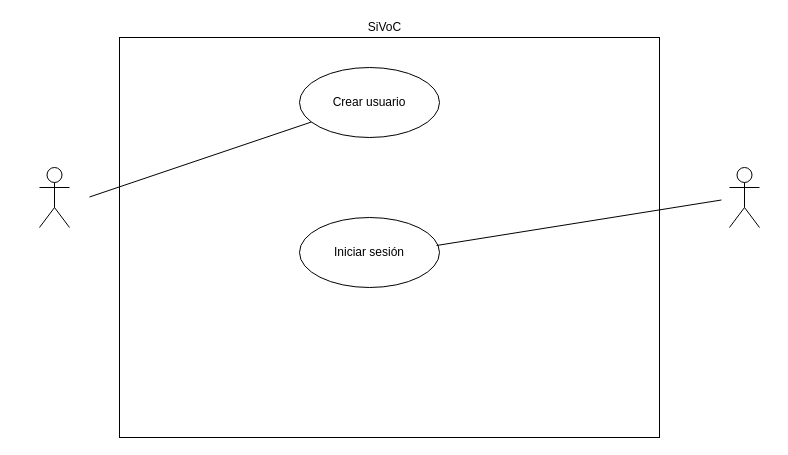
Image size: 788x455. Some labels were removed from this diagram. Here are the shapes that lost their labels. From the top down, the box of each, then its label:
(38, 166, 70, 228): Administrador
(728, 166, 760, 228): Empleado
